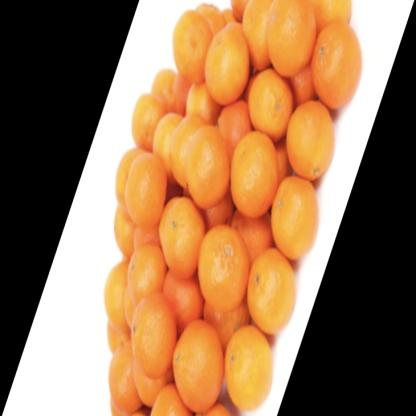fresh: (104, 1, 365, 416)
